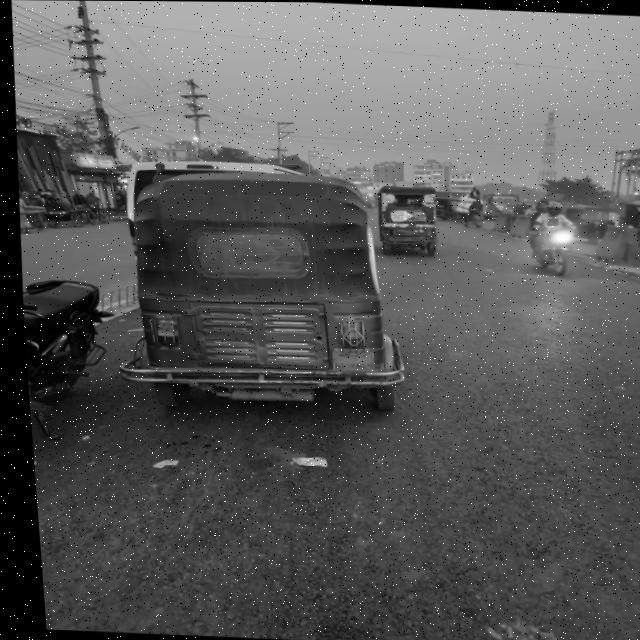cng: (89, 134, 435, 455)
